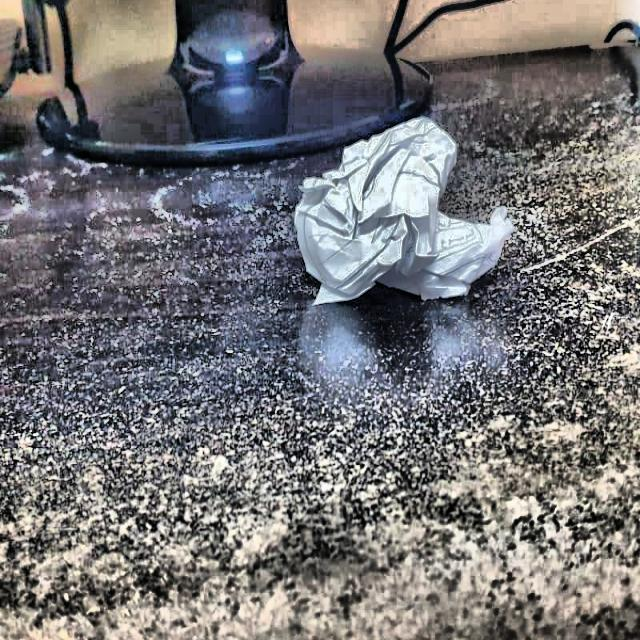paper: (286, 115, 522, 324)
